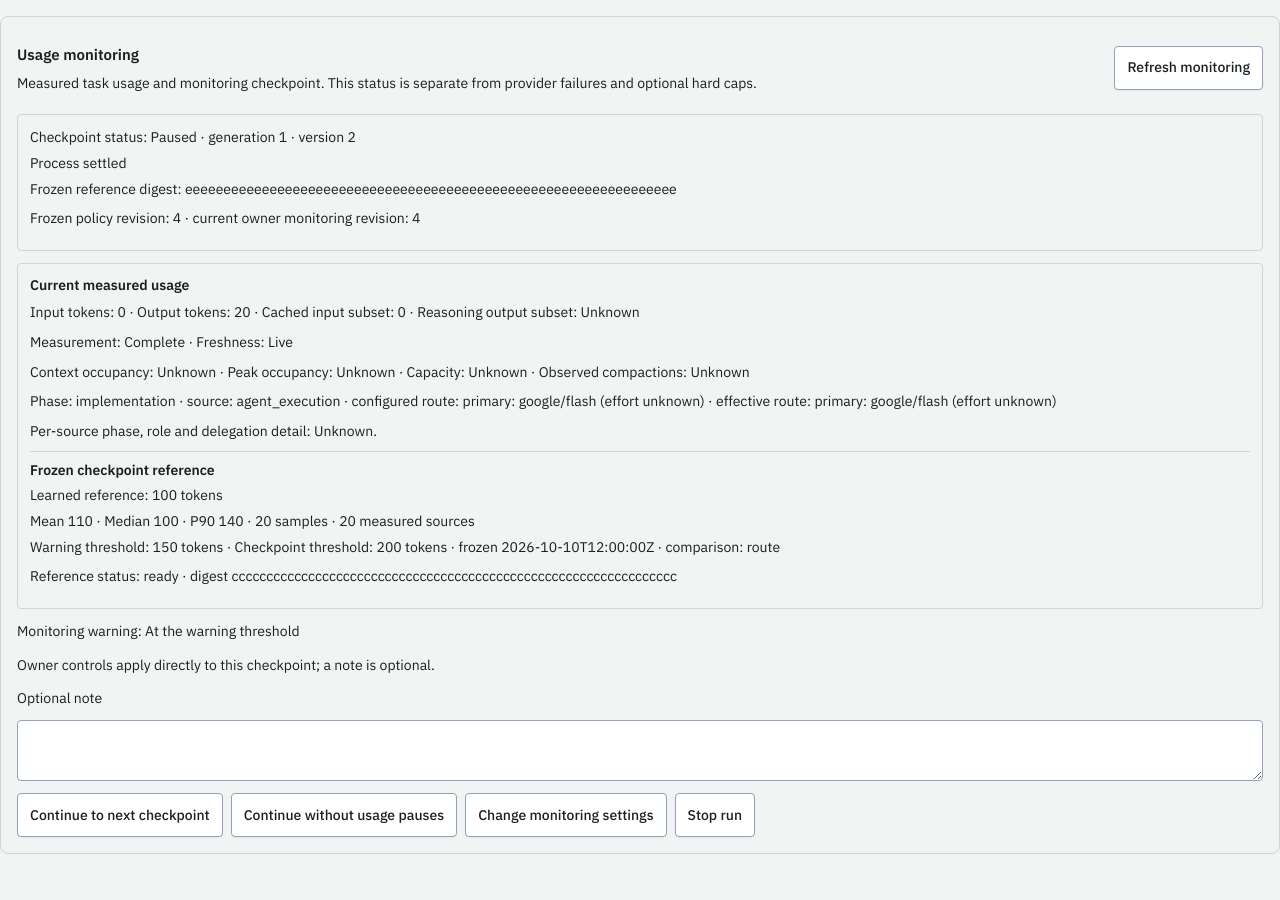
retries an uncertain owner command with the identical body and idempotency key
Click the button "Continue to next checkpoint". click: (120, 815)
box: [17,793,223,837]
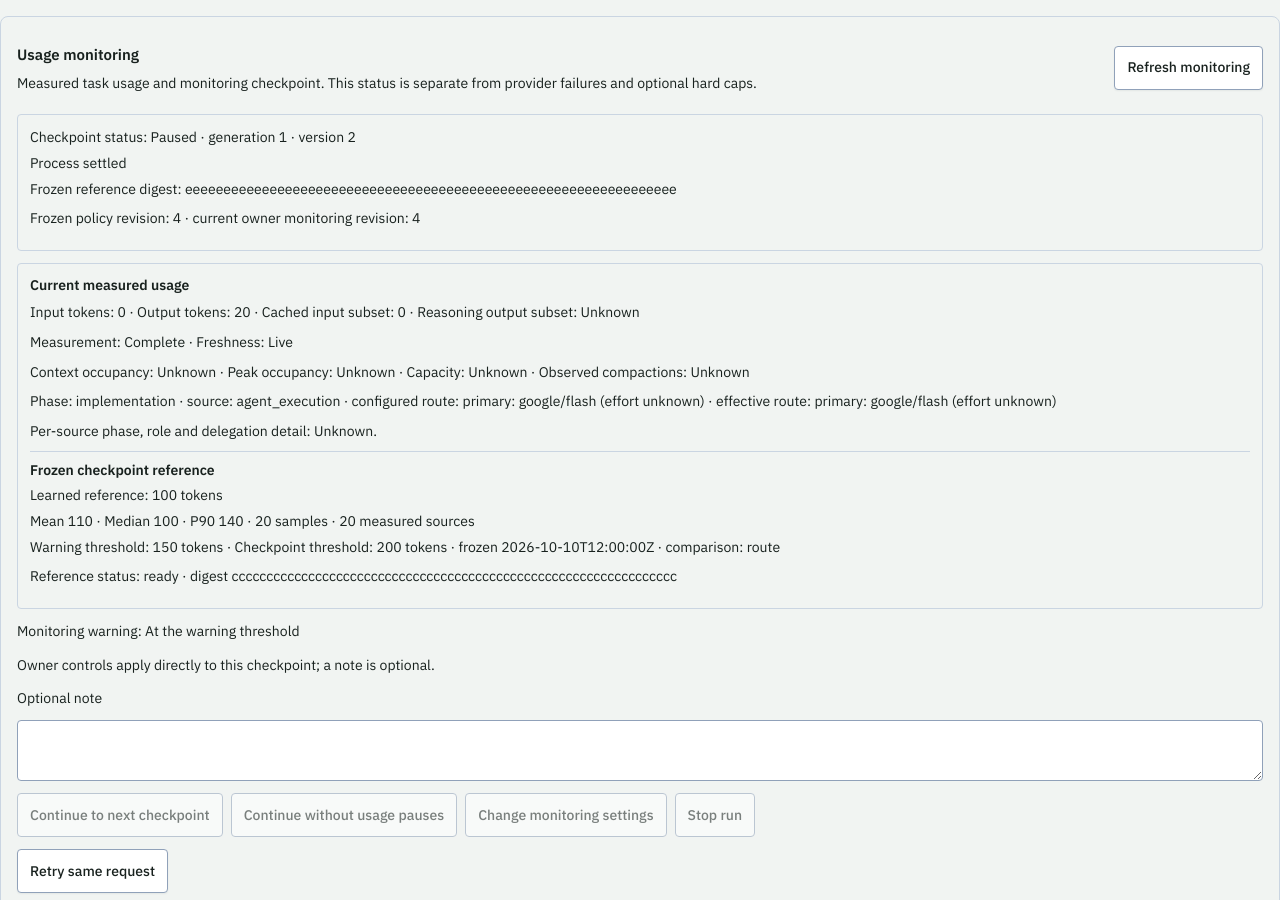
Click the button "Retry same request". click: (92, 871)
box: [17,849,168,893]
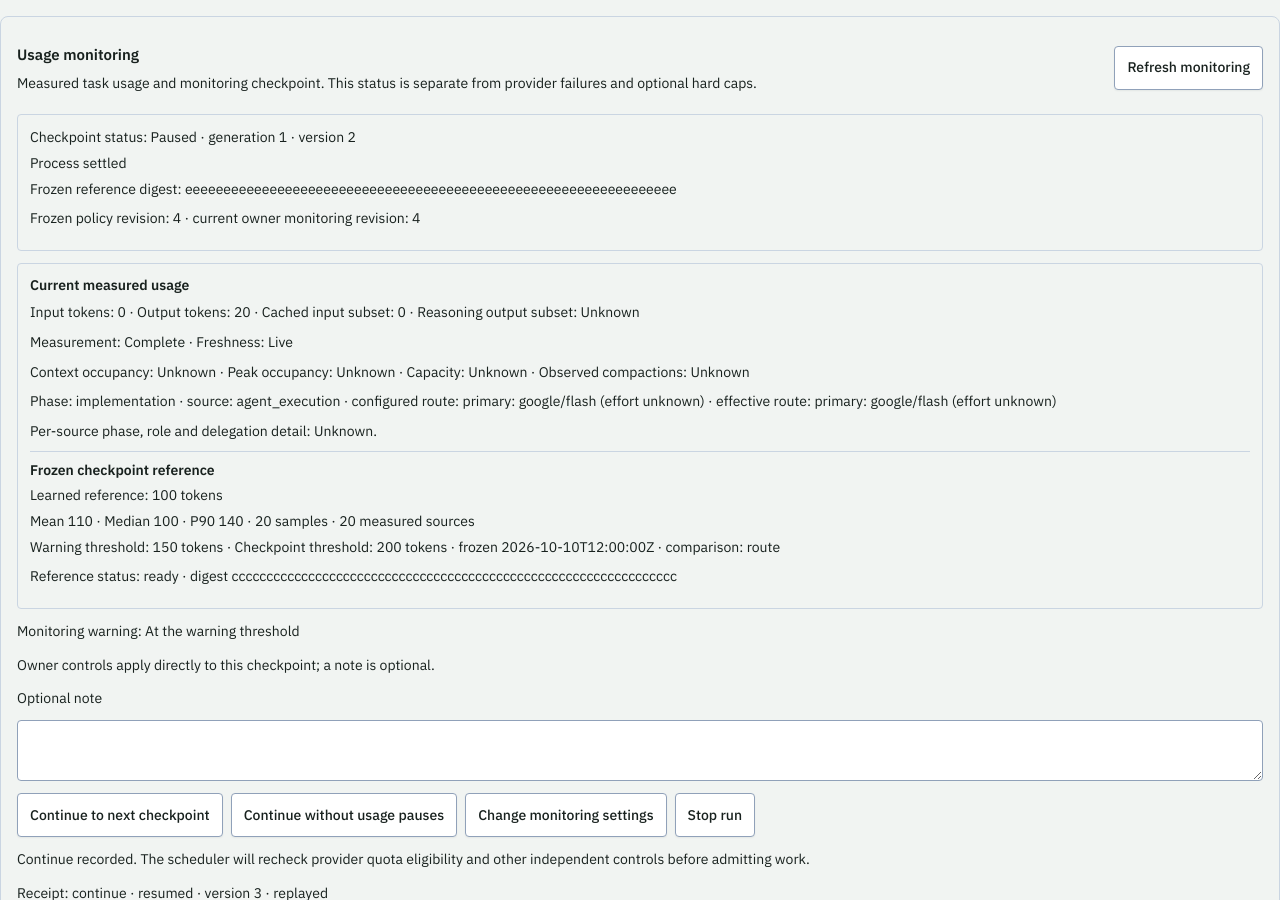
Check: the text "Continue recorded" is shown, box [17,850,810,868]
